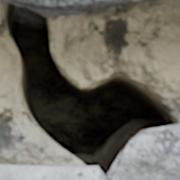brick: (6, 0, 137, 15)
broken_brick: (109, 123, 179, 179), (0, 164, 101, 179)
crack: (0, 0, 177, 179)
